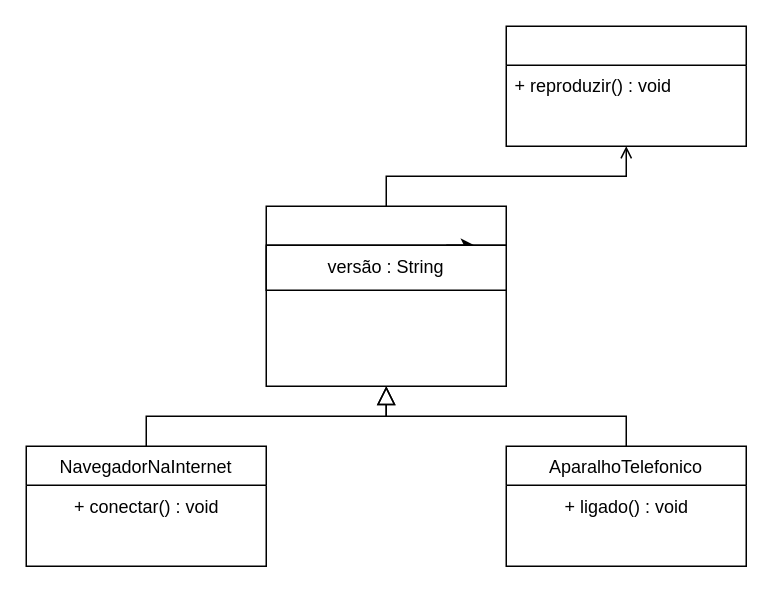
Some shapes in this 773 by 593 pixel diagram are drawn without their labels. The shapes that lost their labels are listed below. From the top down, each one's box as (x1, y1, x2, y2) in pixels, then its label:
(505, 25, 746, 146): ReprodutorMusical
(265, 205, 506, 386): Iphone
